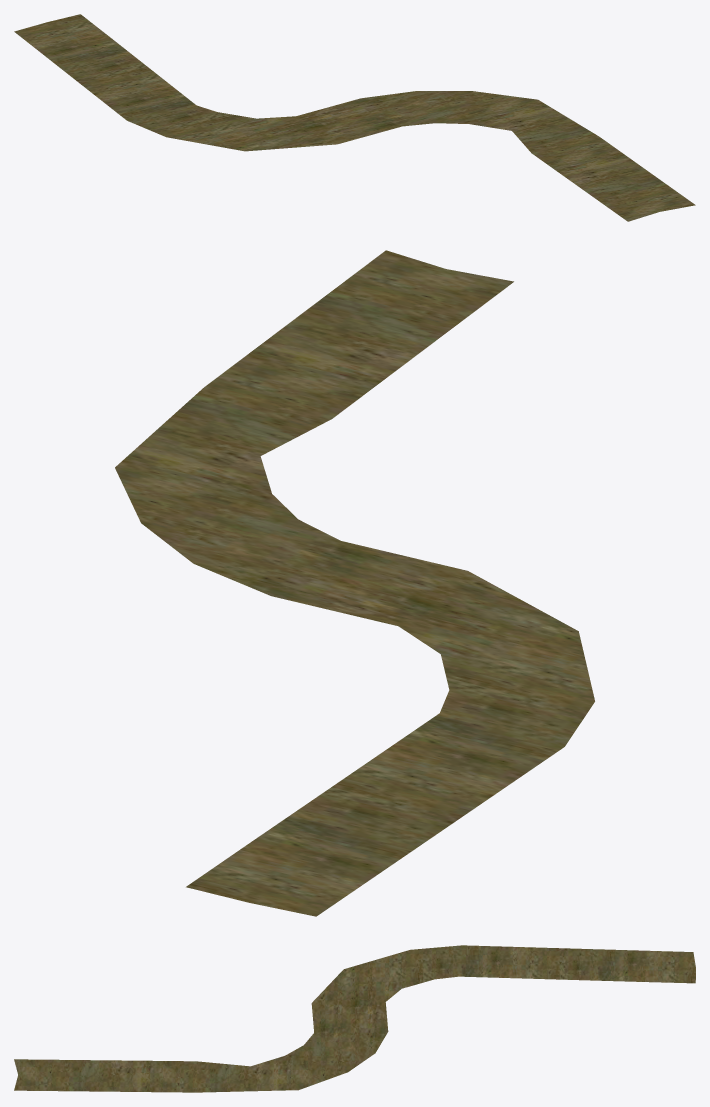
The model's file is CH09_SMAUG_PLAYSURFACE_LAIR109.fbx.
The picture shows the model from 3 angles, top to bottom: view 1: azimuth 30°, elevation 25°; view 2: azimuth 150°, elevation 25°; view 3: azimuth 270°, elevation 25°; orthographic projection. The views are drawn at different scales.
Parts seen in each view (by area): view 1: CH09_SMAUG_PLAYSURFACE_LAIR109; view 2: CH09_SMAUG_PLAYSURFACE_LAIR109; view 3: CH09_SMAUG_PLAYSURFACE_LAIR109.
Boxes of the visible parts, <box> form: CH09_SMAUG_PLAYSURFACE_LAIR109: <box>14,14,695,221</box>; CH09_SMAUG_PLAYSURFACE_LAIR109: <box>115,250,594,916</box>; CH09_SMAUG_PLAYSURFACE_LAIR109: <box>14,945,695,1092</box>.
Size of the model in its own units: 192670 by 5970 by 362889.
Materials: 1 (1 with a texture image).
